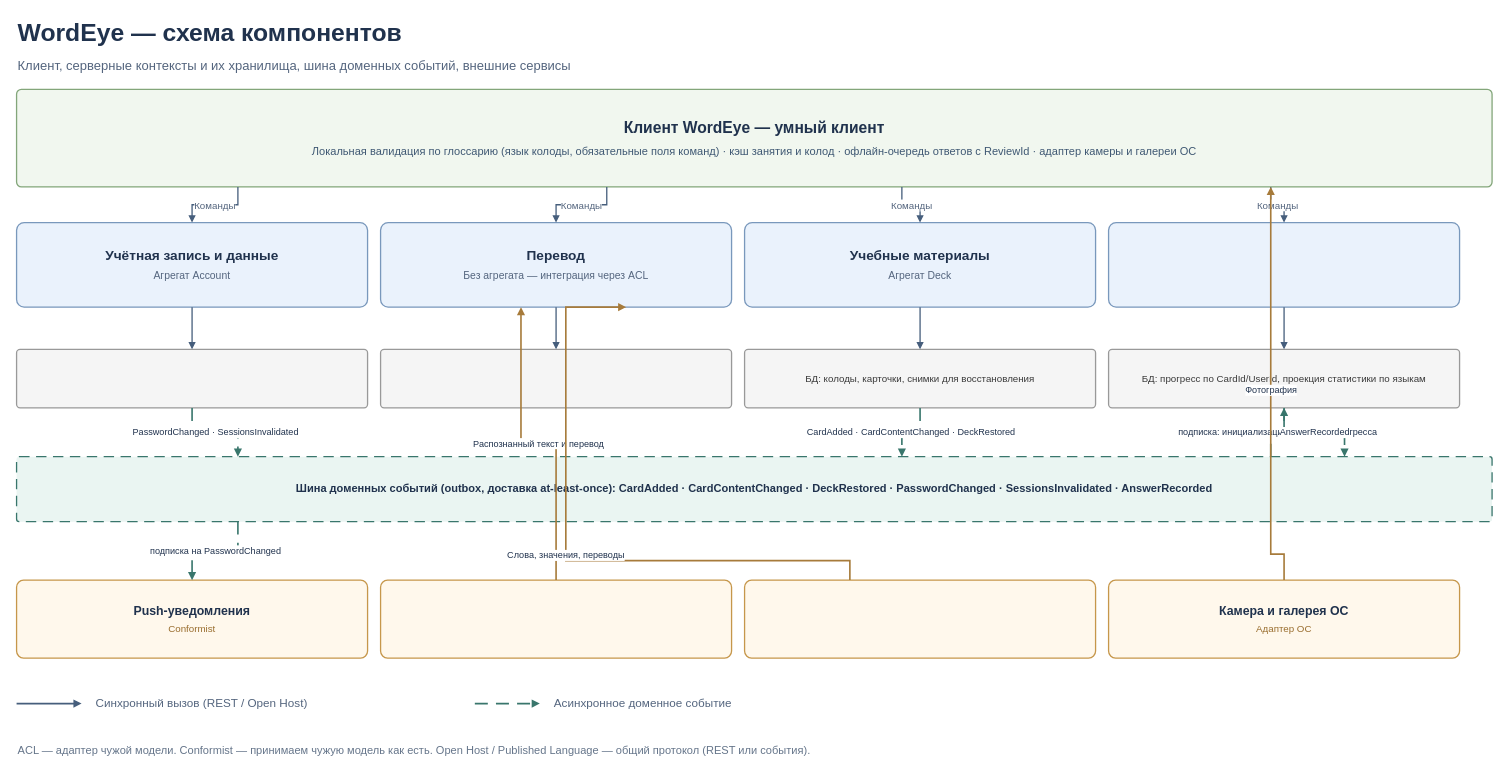
Image size: 1504x776. Some labels were removed from this diagram. Each missing label, with the centre of its shape:
"БД: история переводов (словарь — не хранится, читается через ACL)" goes at point 556,378.
"БД: пользователи, сеансы, версии сеансов" goes at point 192,378.
"Готовый словарь ACL / Conformist" goes at point 920,618.
"Повторение Агрегат CardProgress" goes at point 1284,264.
"Сервис OCR и перевода ACL" goes at point 556,618.
